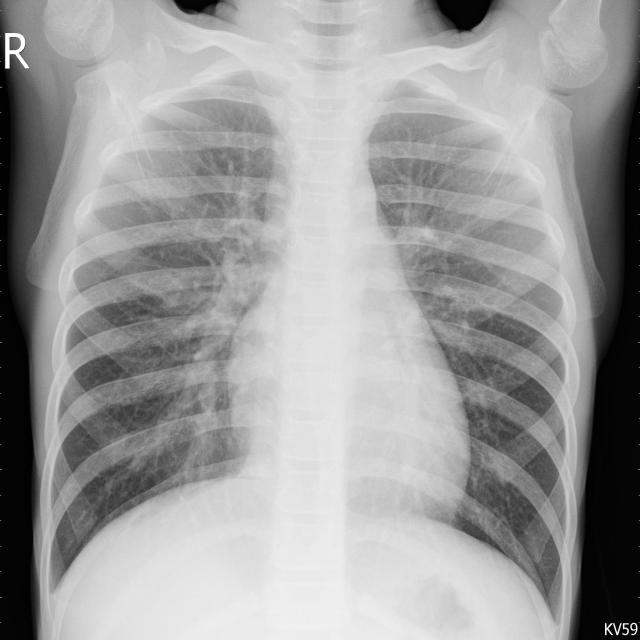no-pneumonia: (51, 69, 288, 580), (370, 80, 579, 603)
